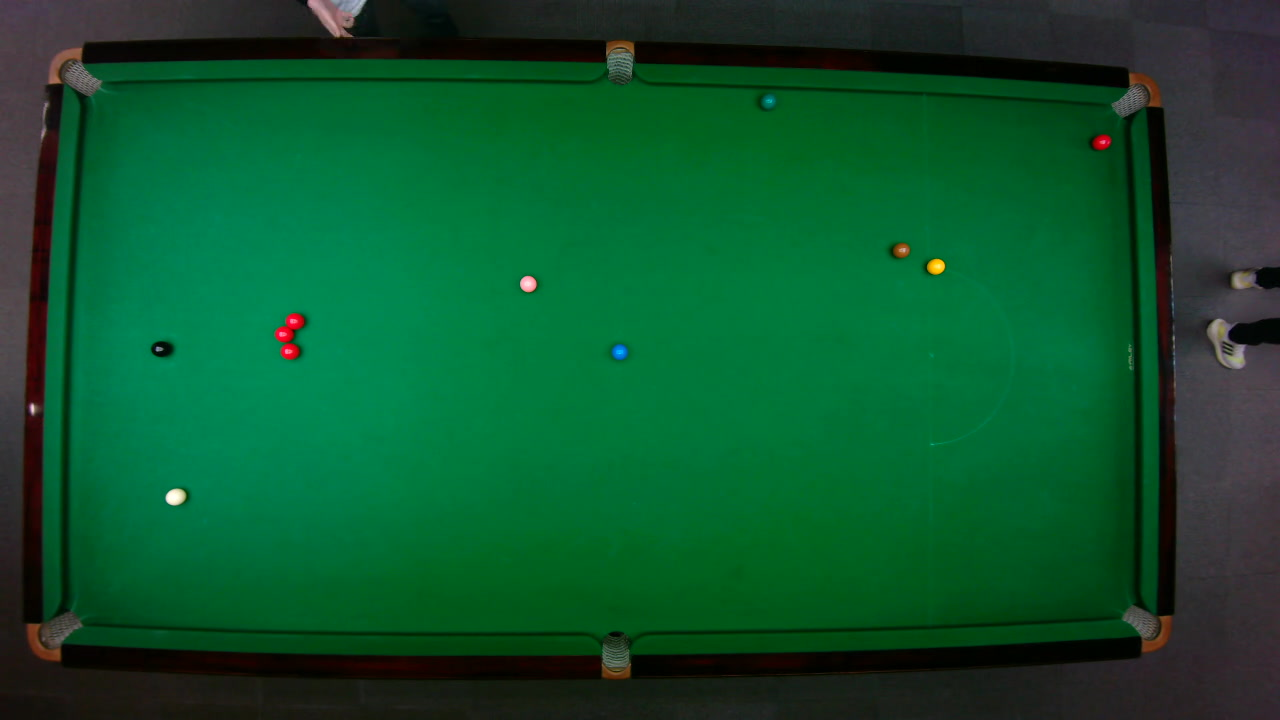bag: (25, 609, 83, 662), (46, 46, 102, 96), (1119, 603, 1171, 652), (1108, 71, 1161, 118), (600, 629, 630, 680), (605, 38, 633, 85)
black: (149, 339, 172, 357)
blue: (609, 342, 628, 360)
brown: (890, 241, 911, 258)
green: (759, 93, 776, 110)
pink: (518, 274, 537, 293)
red: (284, 311, 305, 330), (1090, 132, 1112, 150), (279, 342, 300, 360), (272, 324, 293, 342)
white: (163, 486, 187, 505)
yellow: (925, 256, 946, 275)
zone: (927, 265, 1013, 445)
